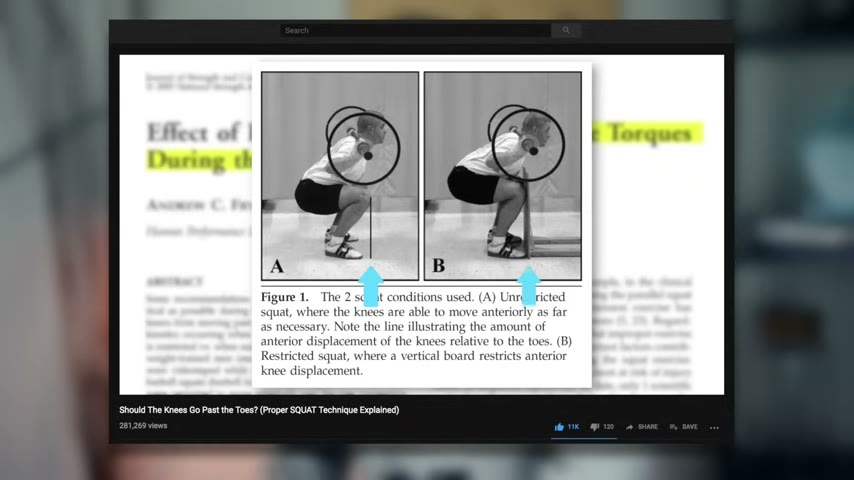barbell_plate_side: (294, 107, 329, 223), (538, 102, 567, 206), (374, 106, 399, 215)
